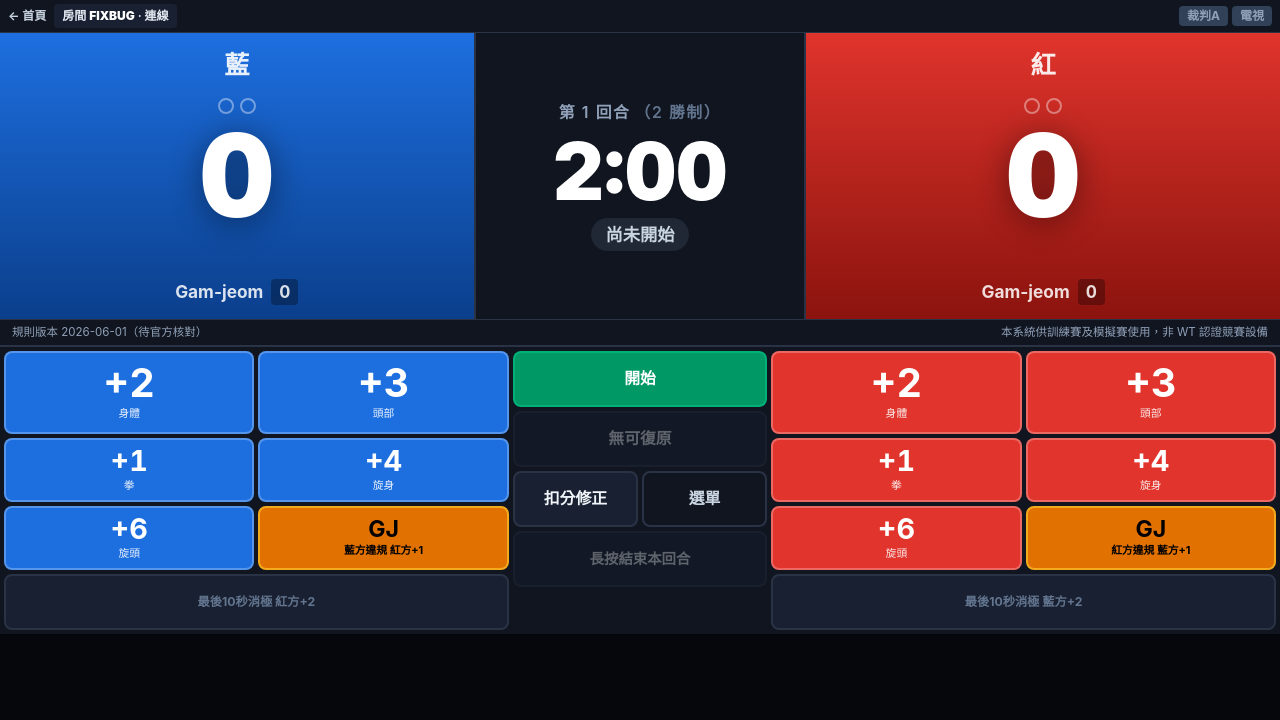
Test case: 主控端｜扣分修正 › 扣到負分會被拒絕，而且要明確告訴使用者原因
Click the button "開始": (640, 379) [513, 351, 767, 407]
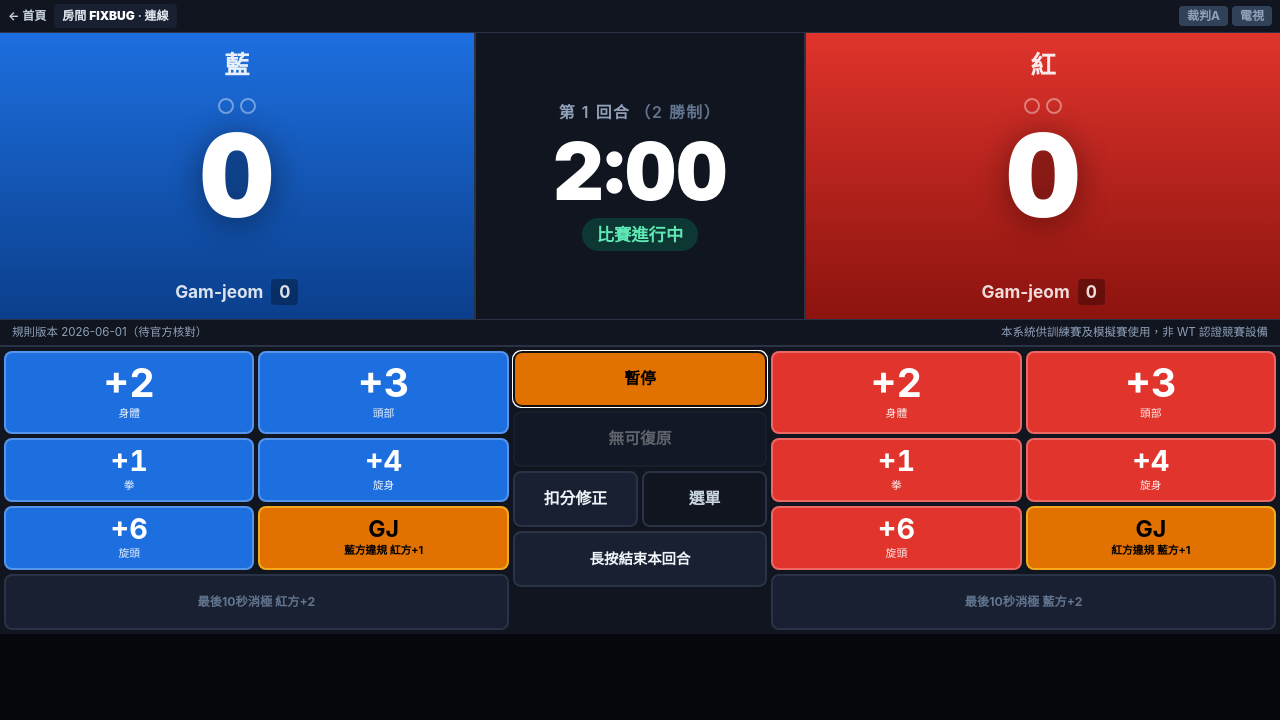
Click the button named "藍方 身體正拳 得 1 分": (129, 470) [4, 438, 254, 502]
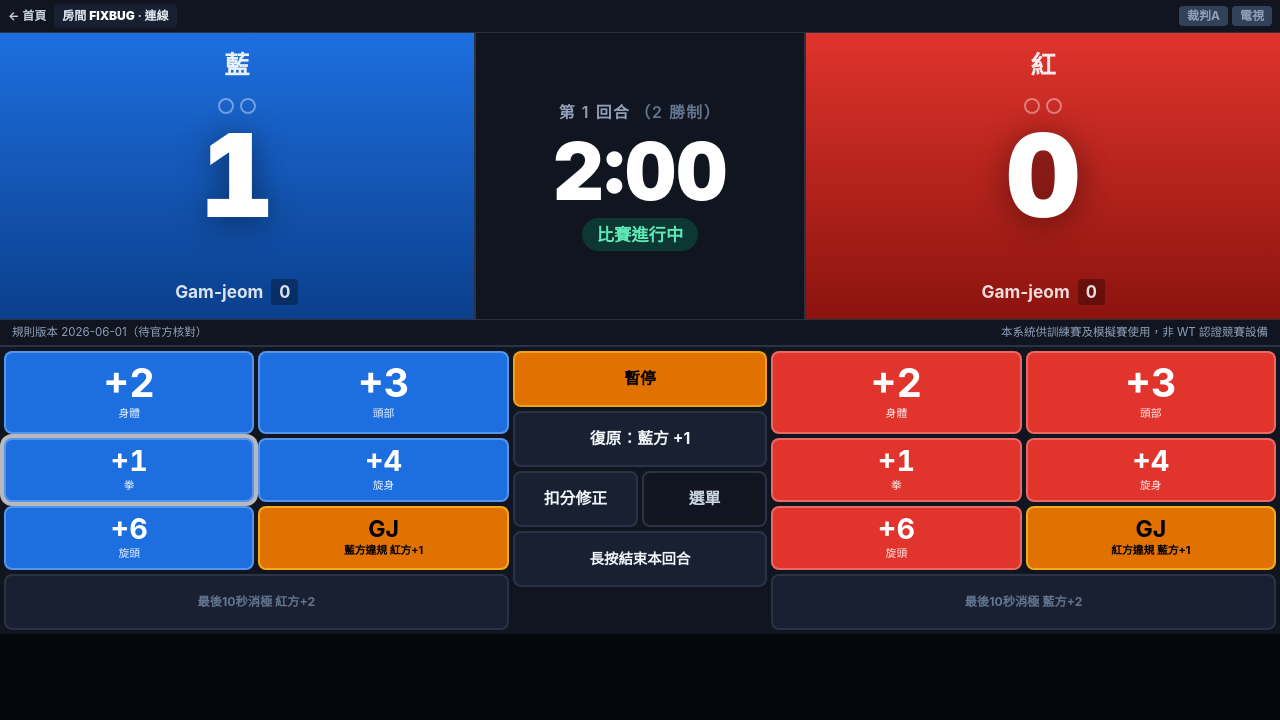
Click the button "扣分修正": (575, 499) [513, 471, 638, 527]
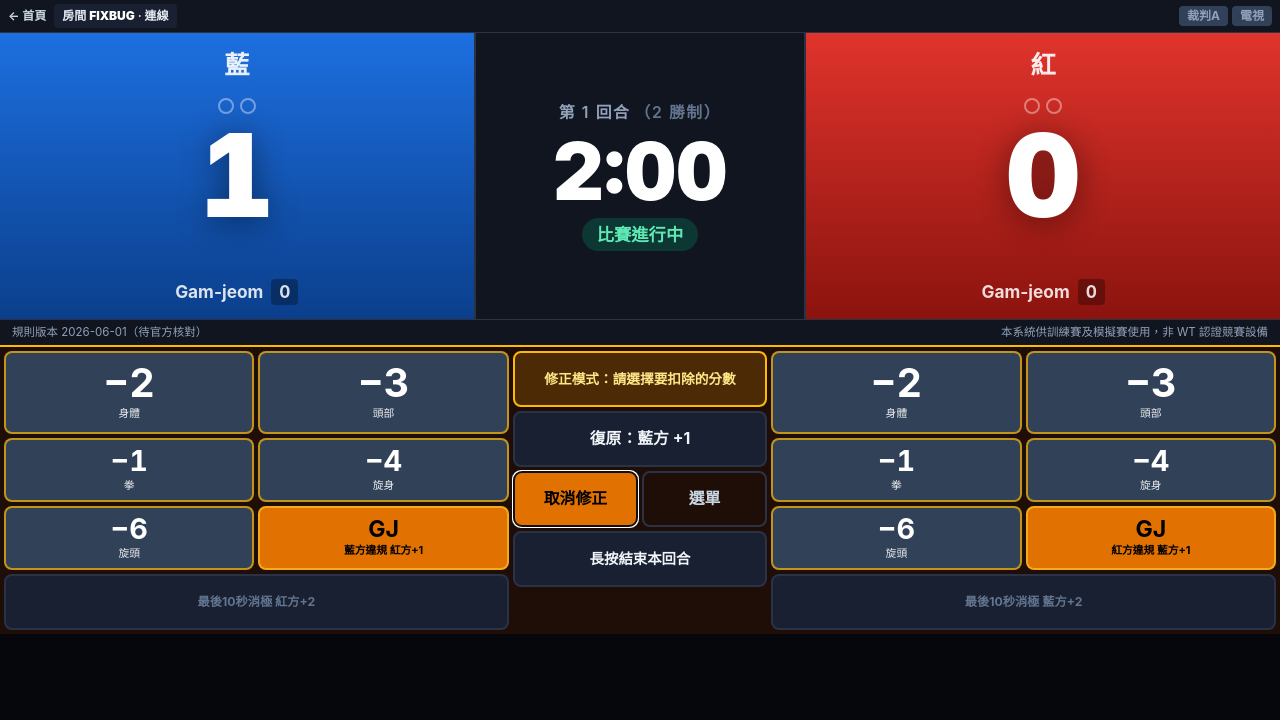
Click the button with aria-label "藍方 頭部踢擊 扣除 3 分": (384, 393) [258, 351, 509, 434]
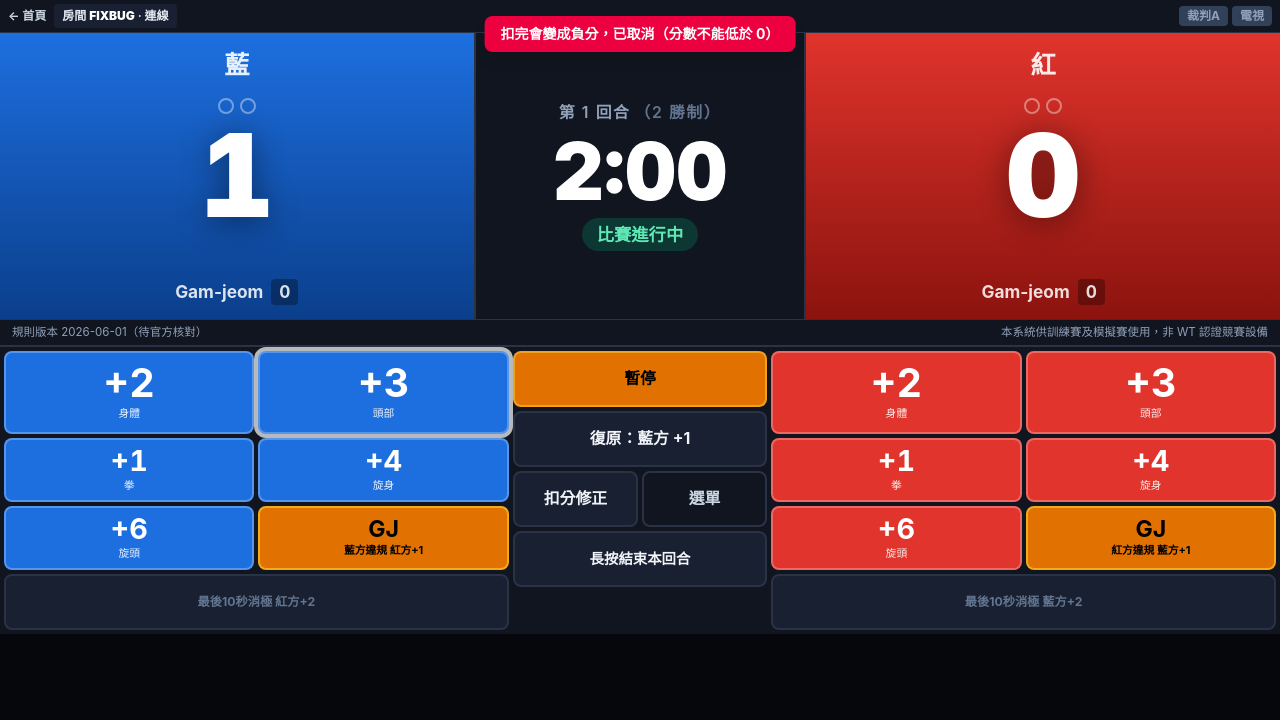
Expected: the message shows "負分", [485, 16, 795, 52]
